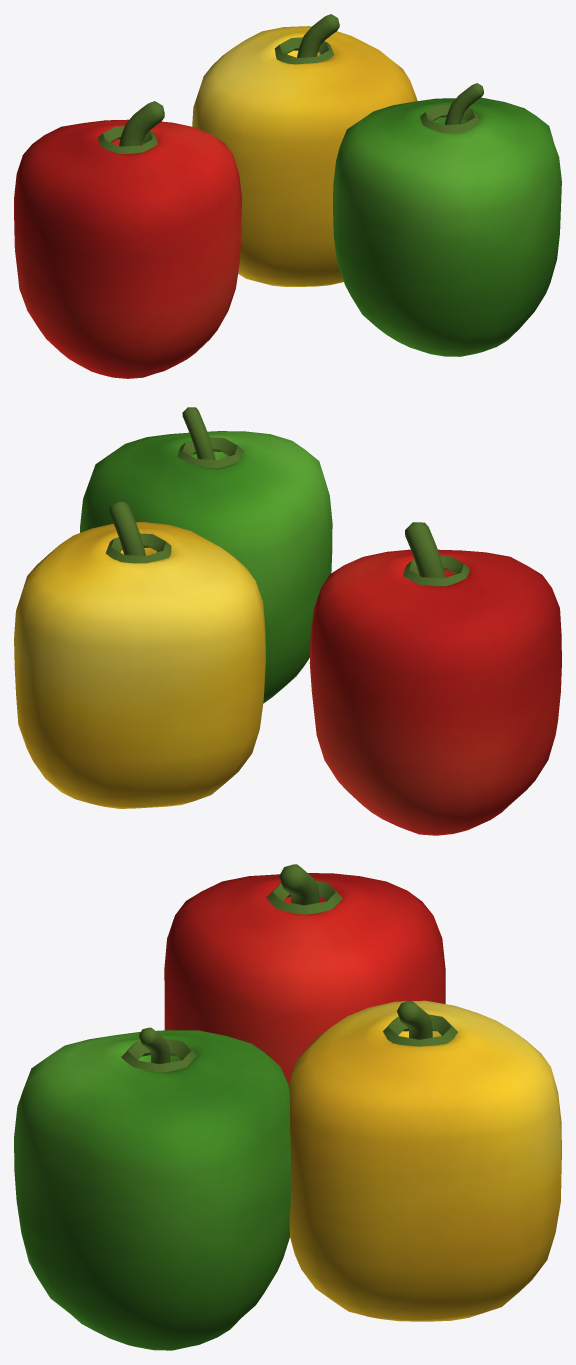
The model's file is veg_bell_peppers_trio.glb.
The picture shows the model from 3 angles, top to bottom: view 1: azimuth 30°, elevation 25°; view 2: azimuth 150°, elevation 25°; view 3: azimuth 270°, elevation 25°; orthographic projection. The views are drawn at different scales.
Visible parts, largest first — view 1: veg_bell_peppers_trio; view 2: veg_bell_peppers_trio; view 3: veg_bell_peppers_trio.
Boxes of the visible parts, bbox=[...] form: veg_bell_peppers_trio: bbox=[14, 14, 561, 378]; veg_bell_peppers_trio: bbox=[14, 407, 561, 835]; veg_bell_peppers_trio: bbox=[14, 864, 561, 1350].
Size of the model in its own units: 0.2252 by 0.1181 by 0.1895.
4 materials, 3 textured.
